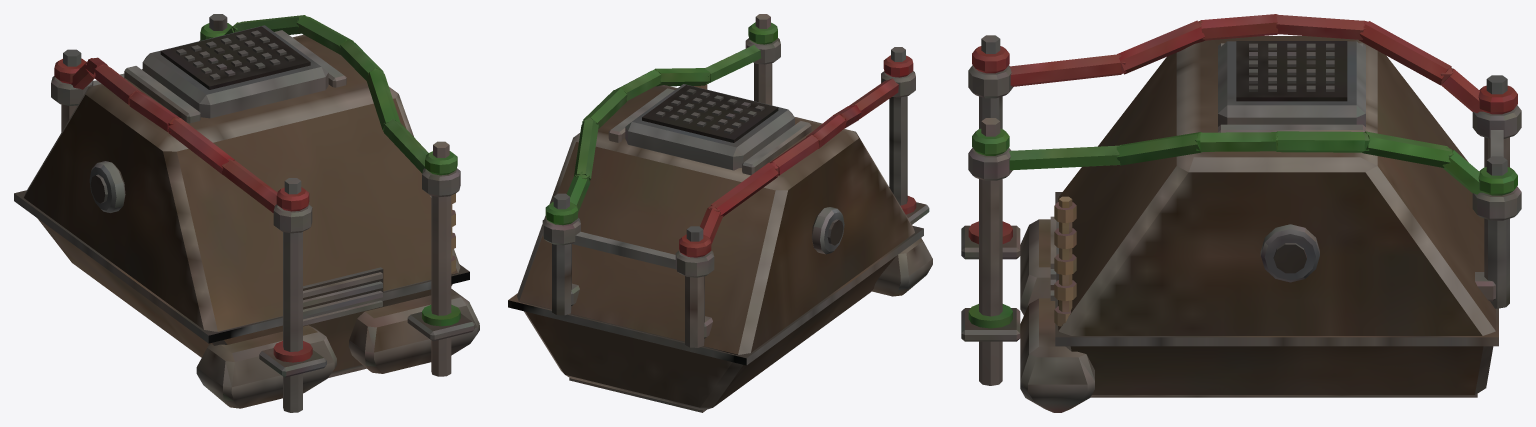
The model's file is decider-combinator.glb.
3 views of the same model, side by side, from view 1: azimuth 30°, elevation 25°; view 2: azimuth 150°, elevation 25°; view 3: azimuth 270°, elevation 25° (orthographic). The views are drawn at different scales.
Visible parts, largest first — view 1: body; view 2: body; view 3: body.
Part boxes in pixels (x1=…): body: x1=14, y1=14, x2=479, y2=412; body: x1=508, y1=14, x2=932, y2=412; body: x1=961, y1=14, x2=1521, y2=412.
Bounding box in the file's own units: 0.985 × 0.866 × 1.52.
Materials: 1 (1 with a texture image).
